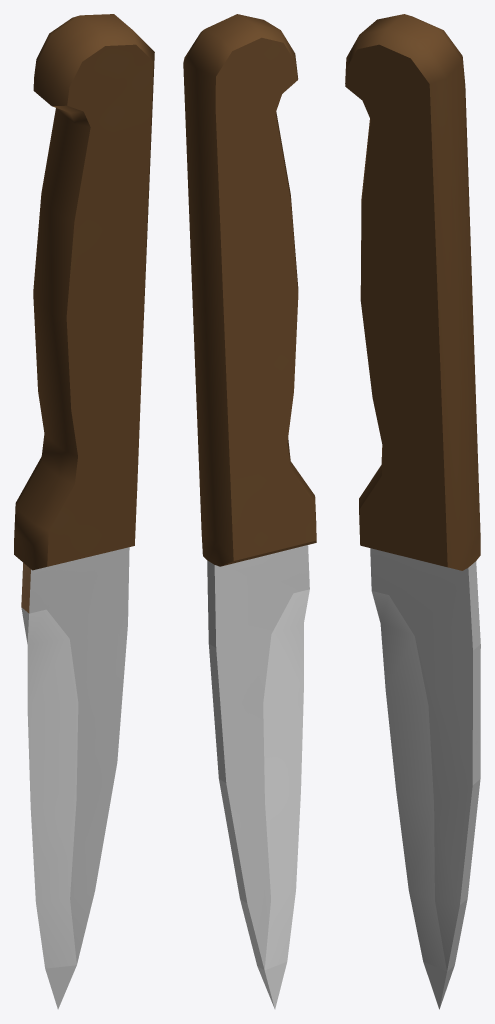
Rendered from SM_Kitchen_Kinfe_S.fbx.
The picture shows the model from 3 angles, left to right: view 1: azimuth 30°, elevation 25°; view 2: azimuth 210°, elevation 25°; view 3: azimuth 330°, elevation 25°; orthographic projection. The views are drawn at different scales.
Visible parts, largest first — view 1: SM_Kitchen_Kinfe_S; view 2: SM_Kitchen_Kinfe_S; view 3: SM_Kitchen_Kinfe_S.
Boxes of the visible parts, x1,y1,x2,y2 form: SM_Kitchen_Kinfe_S: [14, 14, 154, 1009]; SM_Kitchen_Kinfe_S: [183, 14, 316, 1009]; SM_Kitchen_Kinfe_S: [345, 14, 480, 1009].
Bounding box in the file's own units: 0.0173 × 0.1606 × 0.016.
